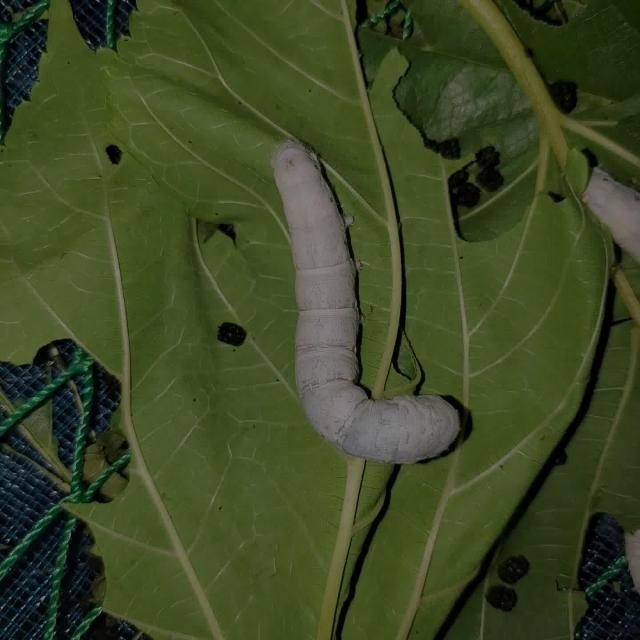Healthy: (255, 130, 503, 478)
